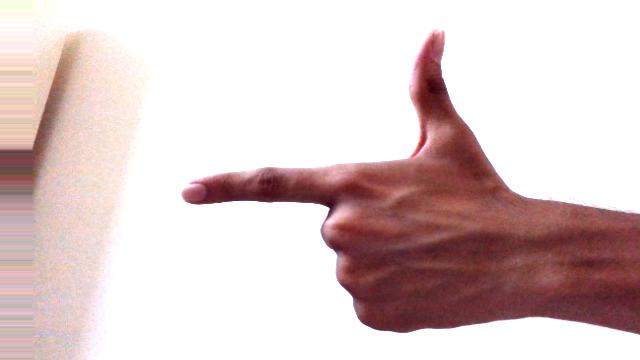Right: (182, 30, 515, 333)
